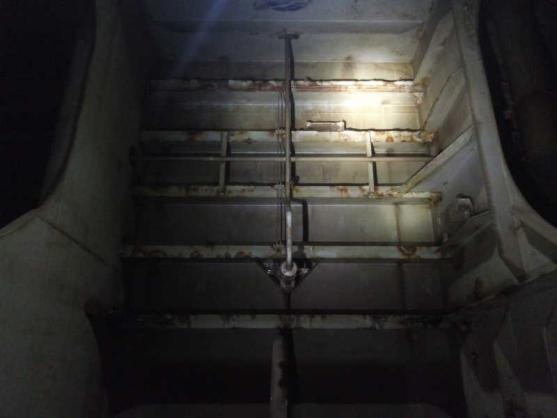corrosion: (129, 244, 283, 263), (367, 122, 439, 149), (333, 184, 414, 204), (220, 120, 260, 149), (359, 75, 431, 91), (293, 78, 353, 94), (213, 182, 262, 199), (232, 75, 275, 92), (179, 124, 207, 138)
